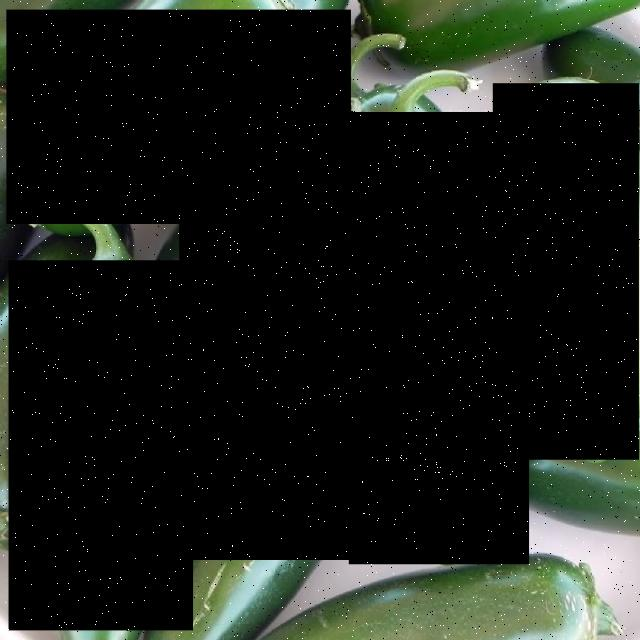Chili_Pepper: (350, 112, 530, 564), (180, 112, 354, 561), (7, 10, 352, 224), (8, 261, 194, 631), (493, 83, 640, 460)
